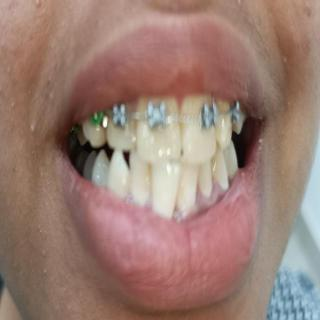maligned: (147, 150, 179, 223)
